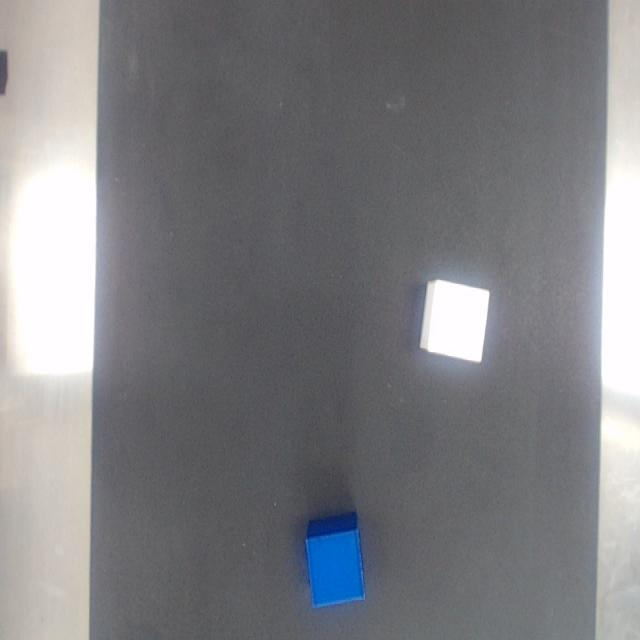Azul: (305, 512, 364, 607)
Blanco: (419, 280, 488, 361)
